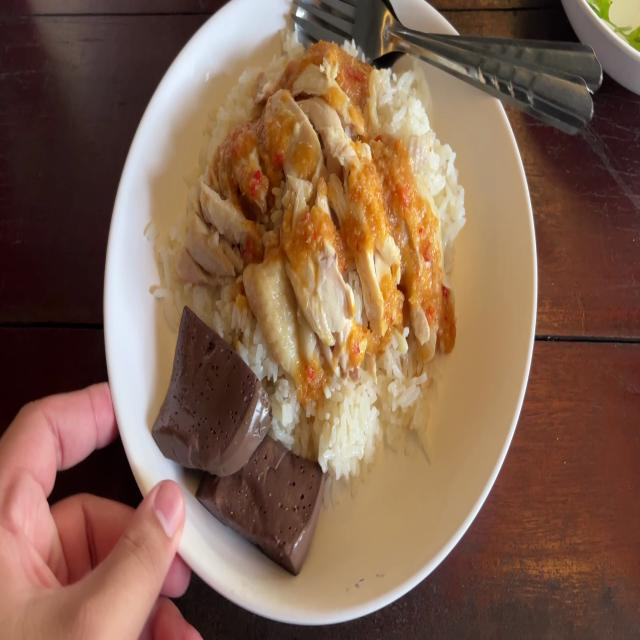boiled_chicken: (196, 46, 437, 364)
boiled_chicken_blood_jelly: (150, 300, 270, 474), (204, 414, 322, 556)
chicken_rice: (148, 34, 467, 576)
